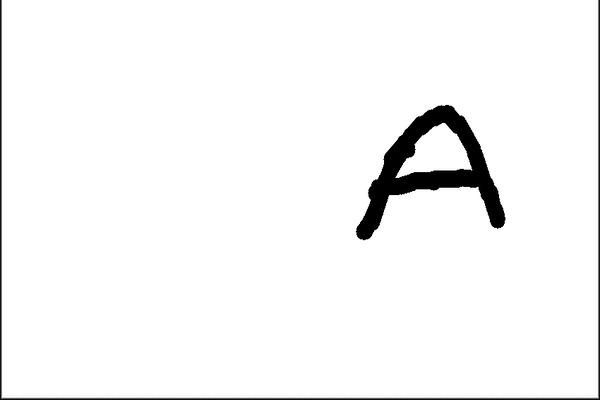A: (349, 93, 517, 245)
